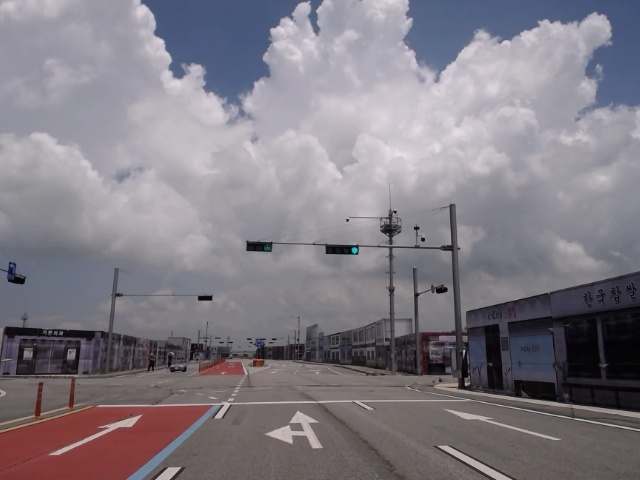straight_green_4: (323, 245, 360, 256)
